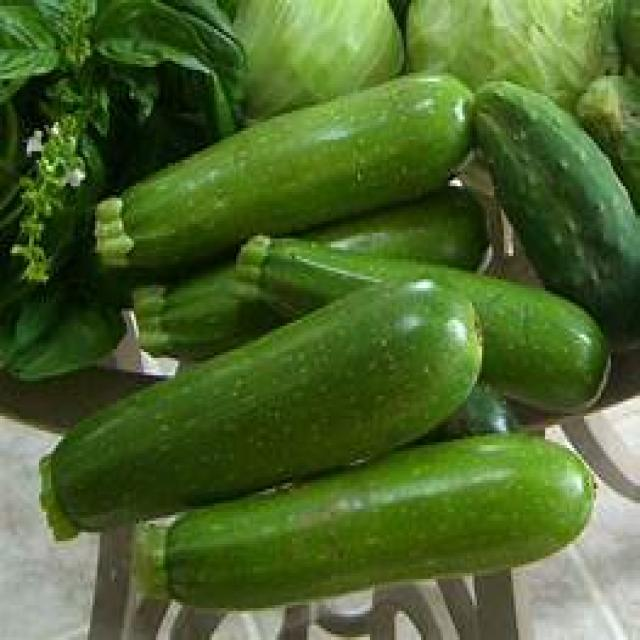Zucchini: (134, 440, 614, 596)
